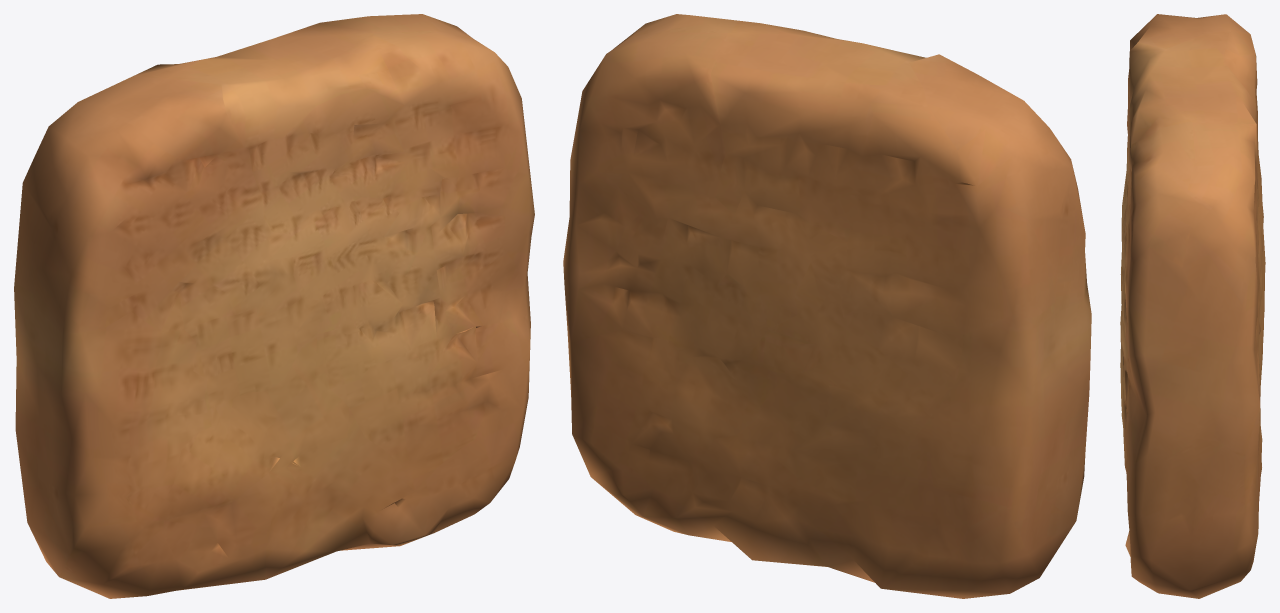
File: clay_tablet.glb
The picture shows the model from 3 angles, left to right: view 1: azimuth 30°, elevation 25°; view 2: azimuth 150°, elevation 25°; view 3: azimuth 270°, elevation 25°; orthographic projection. The views are drawn at different scales.
Visible parts, largest first — view 1: tripo_node_c706ea5f-cdec-4447-9c4d-cbe2472da5bf; view 2: tripo_node_c706ea5f-cdec-4447-9c4d-cbe2472da5bf; view 3: tripo_node_c706ea5f-cdec-4447-9c4d-cbe2472da5bf.
Part boxes in pixels (box(x1,y1,x2,y2)): tripo_node_c706ea5f-cdec-4447-9c4d-cbe2472da5bf: box(14, 14, 534, 598); tripo_node_c706ea5f-cdec-4447-9c4d-cbe2472da5bf: box(563, 14, 1091, 598); tripo_node_c706ea5f-cdec-4447-9c4d-cbe2472da5bf: box(1120, 14, 1265, 598).
Size of the model in its own units: 0.9805 by 0.9797 by 0.2878.
1 material, 1 textured.
